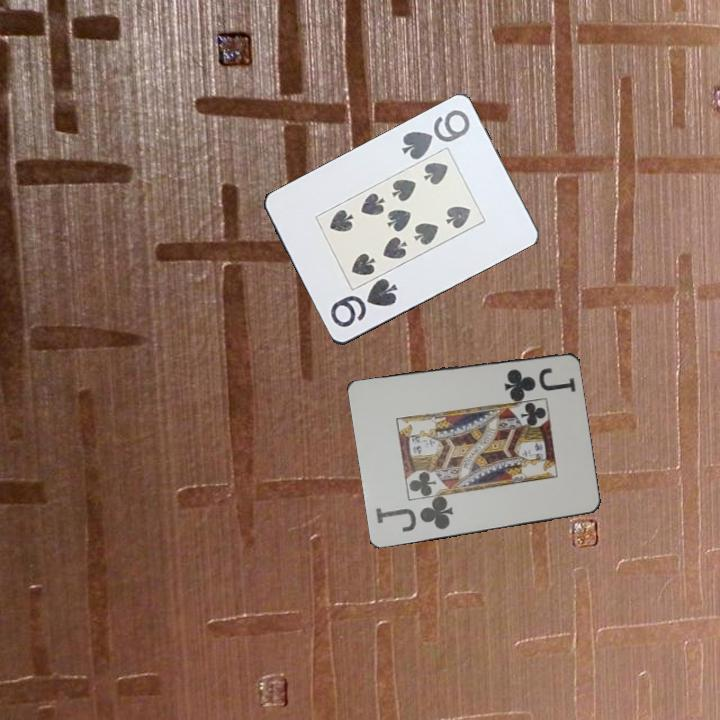9s: (398, 106, 473, 164), (326, 275, 401, 331)
Jc: (372, 494, 456, 536), (501, 364, 578, 399)
